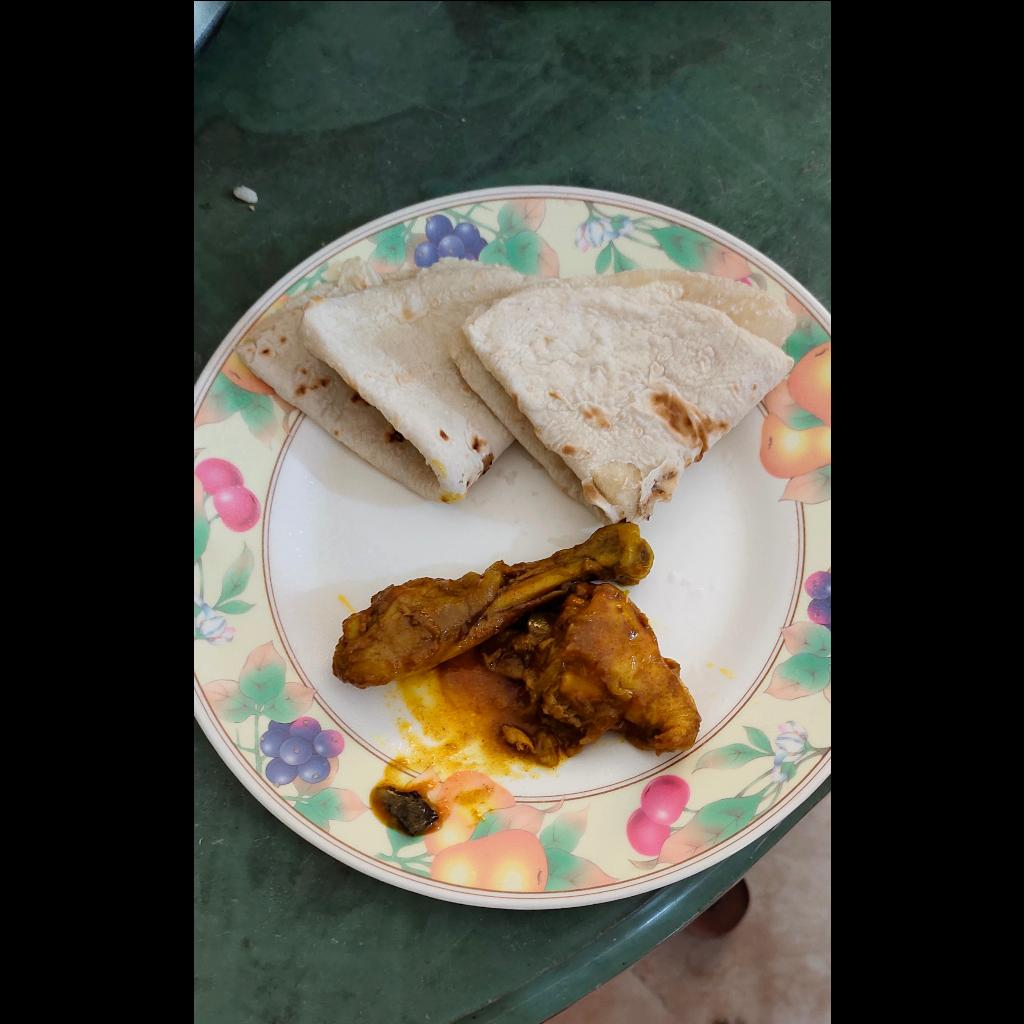chicken: (325, 519, 700, 766)
ruti: (234, 250, 799, 529)
